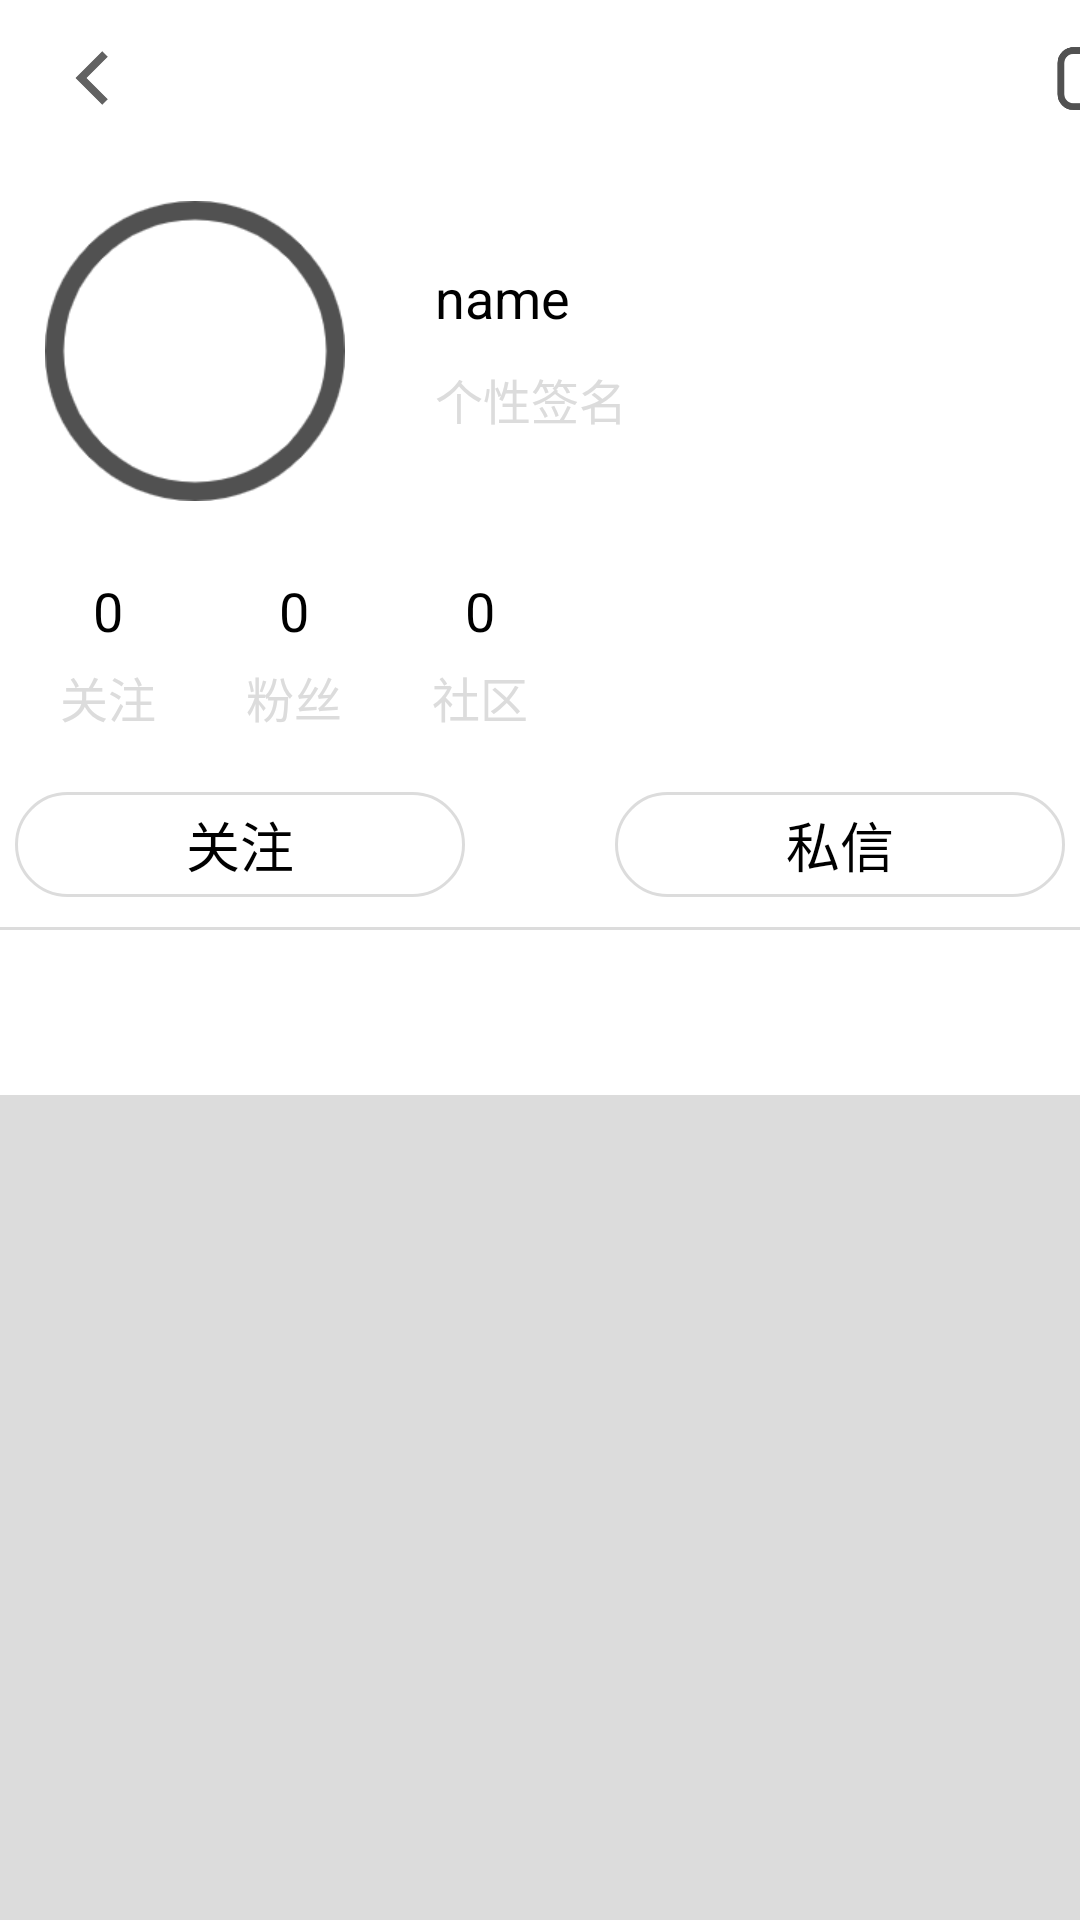

Screen size 1080 × 1920. Icon name, then its center in pixels as (x=x, y=y):
back: (x=92, y=78)
